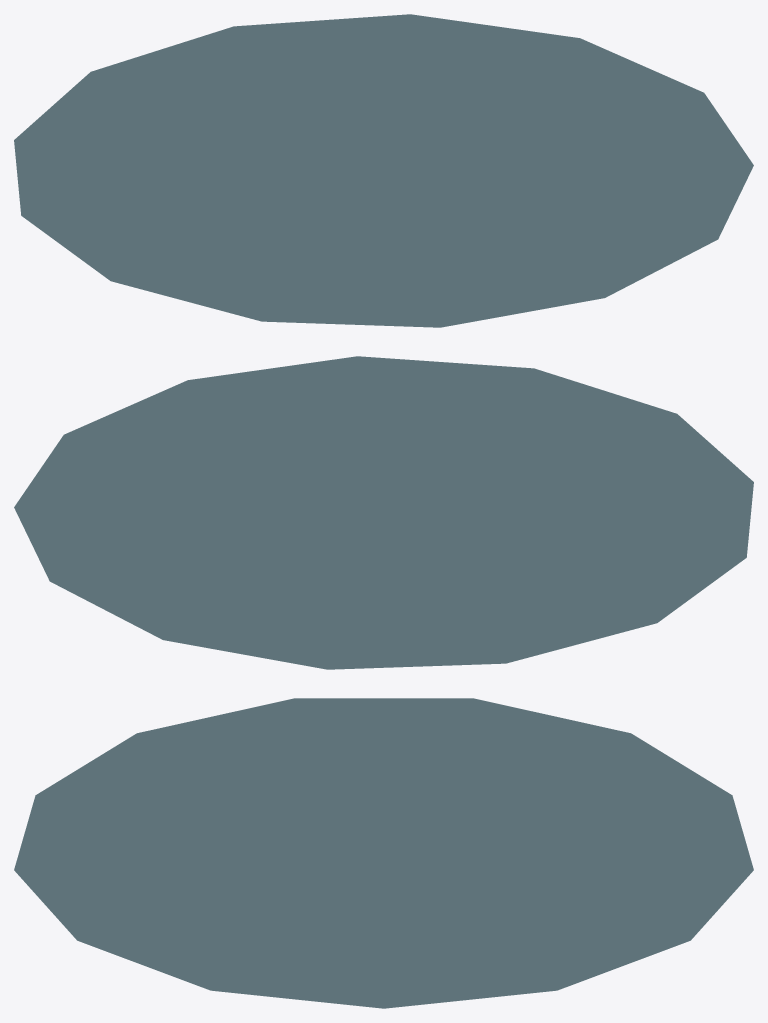
Rendered from disc.glb.
The picture shows the model from 3 angles, top to bottom: view 1: azimuth 30°, elevation 25°; view 2: azimuth 150°, elevation 25°; view 3: azimuth 270°, elevation 25°; orthographic projection.
Visible parts, largest first — view 1: Disc; view 2: Disc; view 3: Disc.
Part boxes in pixels (x1,y1,x2,y2): Disc: (14,14,753,327); Disc: (14,356,753,669); Disc: (14,698,753,1008).
Bounding box in the file's own units: 1.97 × 3.35e-07 × 1.99.
